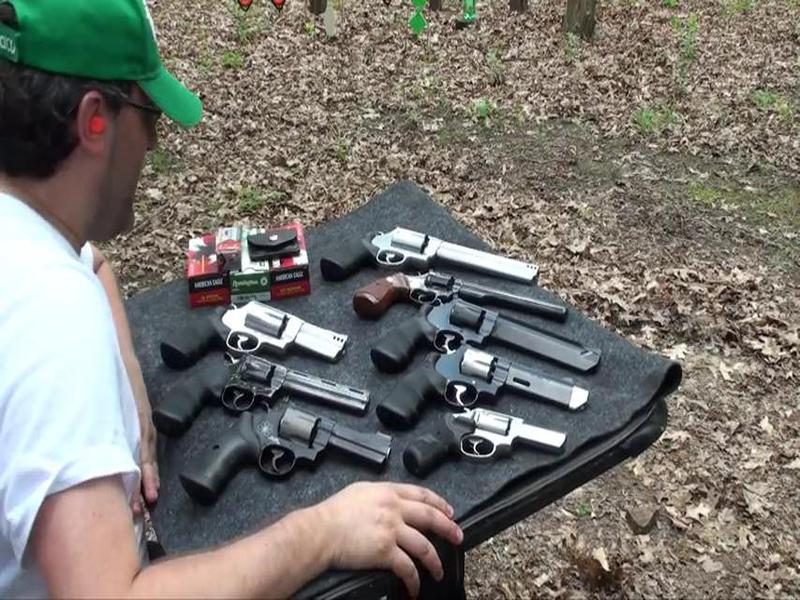Revolver: (355, 248, 574, 329)
